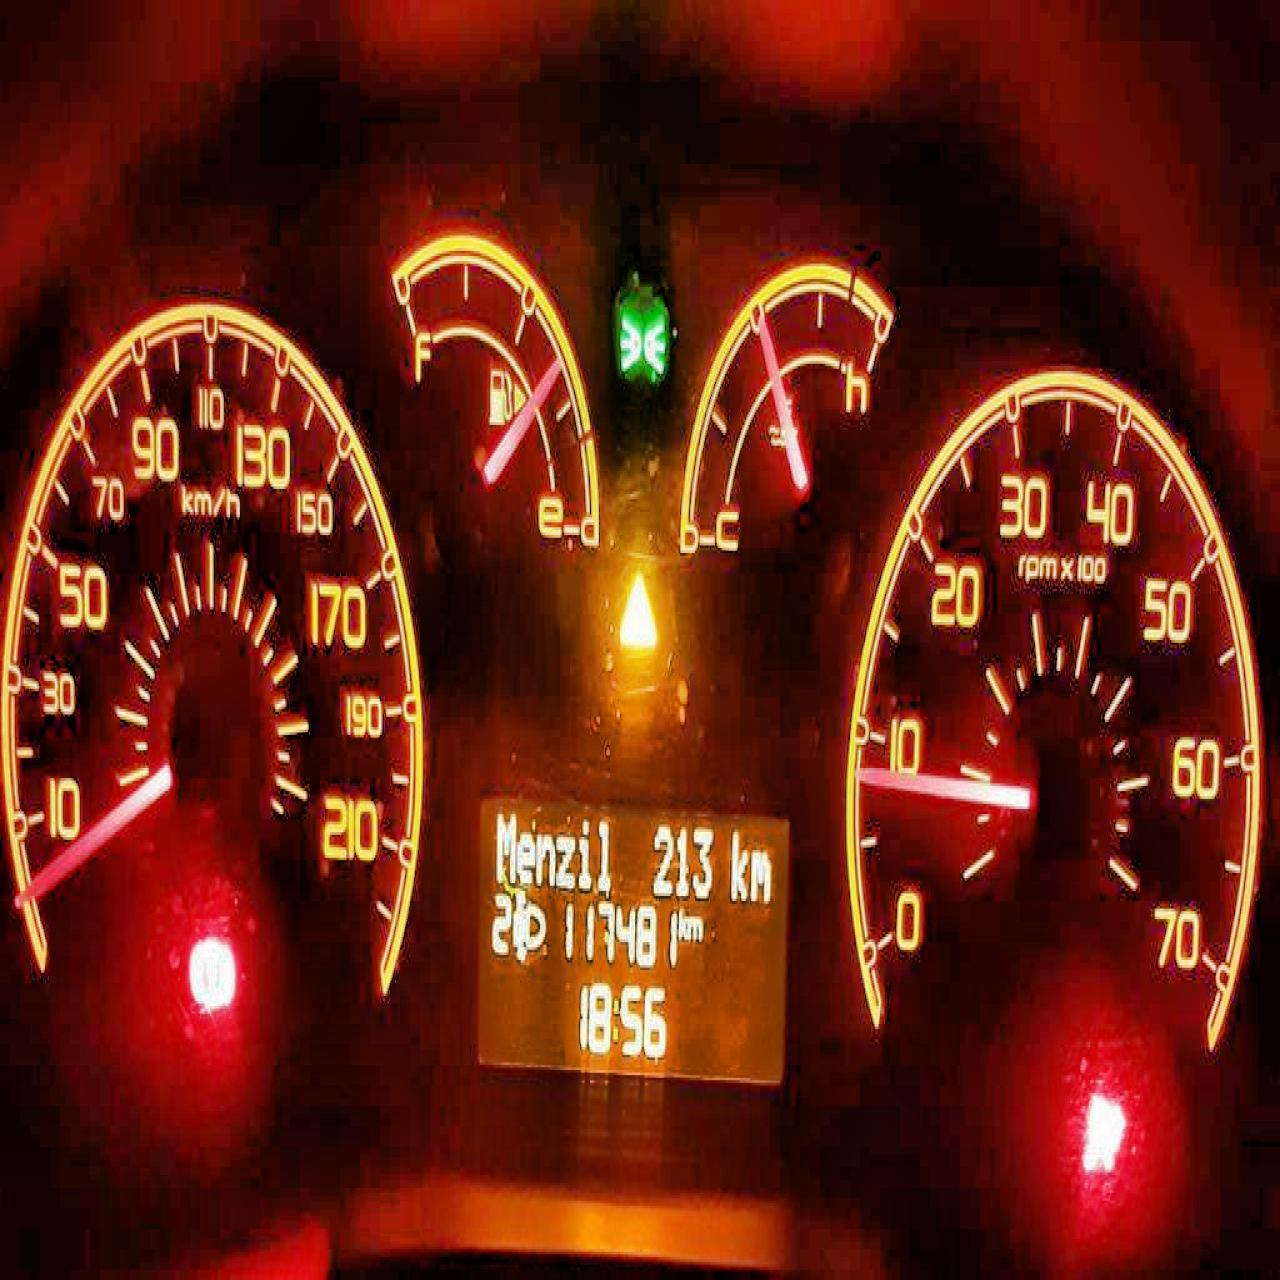1: (675, 819, 690, 899), (561, 896, 577, 960), (581, 893, 594, 962), (577, 978, 587, 1051), (667, 906, 678, 968)
2: (651, 819, 674, 896), (489, 888, 511, 955)
3: (690, 822, 714, 899)
4: (615, 901, 635, 962)
5: (619, 978, 642, 1057)
6: (642, 983, 667, 1060)
7: (595, 893, 615, 962)
8: (587, 978, 611, 1055), (635, 901, 656, 968)
X: (491, 804, 517, 884), (728, 822, 748, 904), (594, 811, 611, 893), (749, 845, 771, 901), (554, 830, 576, 888), (577, 811, 592, 891), (535, 830, 554, 888), (516, 828, 533, 886), (687, 908, 702, 939), (611, 990, 619, 1047), (678, 906, 688, 940)
odometer: (474, 789, 792, 1094)
